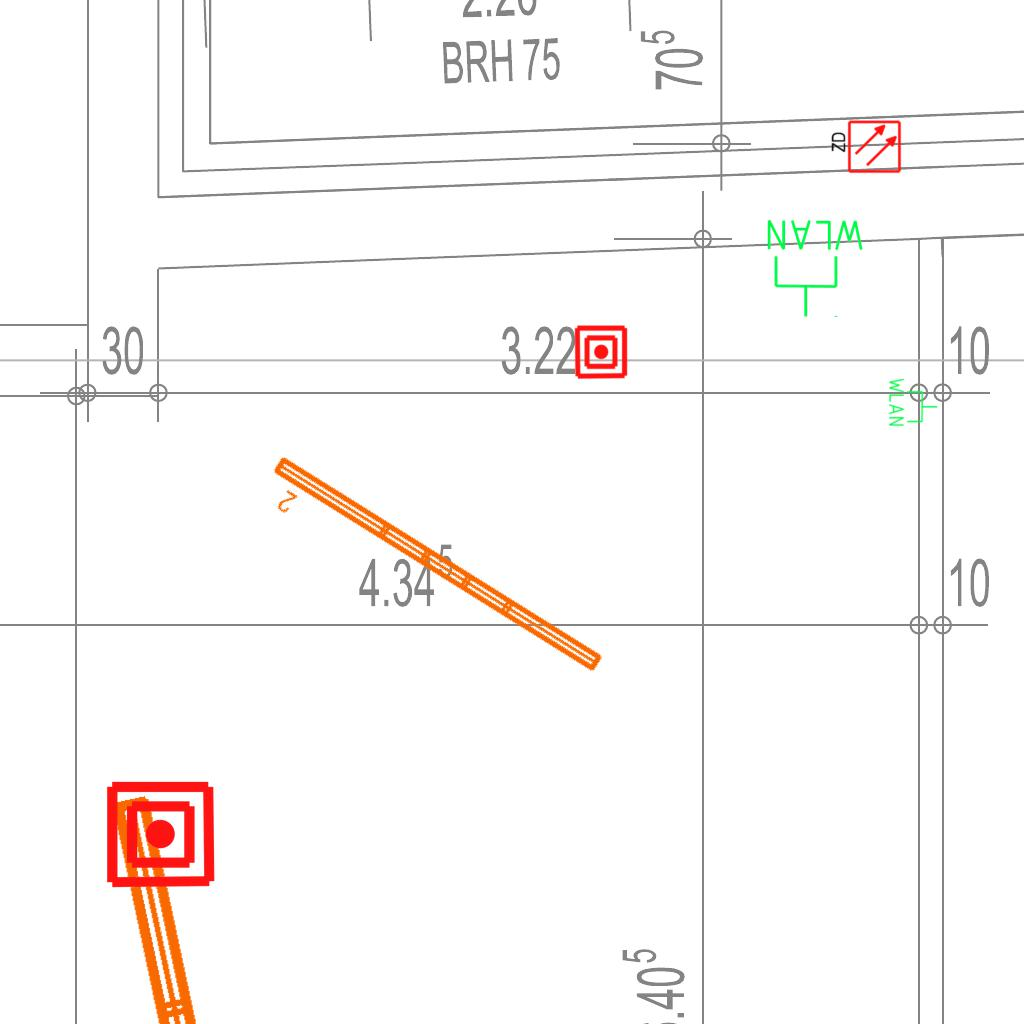Ambulanz_Pendelleuchte_LED: (252, 448, 611, 702), (97, 771, 369, 1024)
NAM-Nichtautomatischer_Melder: (104, 778, 217, 891), (573, 324, 629, 380)
WLAN: (763, 216, 868, 320), (887, 376, 939, 428)
ZD_Melder_in_Zwischendecke_mit_Revisionsoeffnung_mind_40_x_40_cm: (828, 119, 902, 176)
